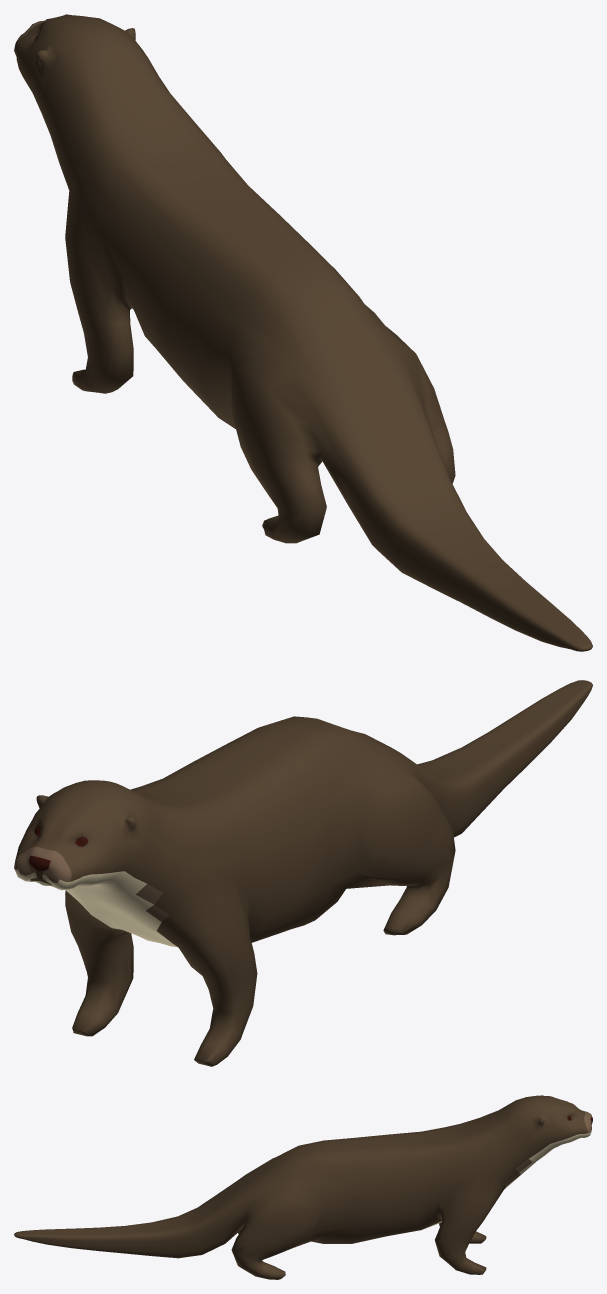
The model's file is Otter.fbx.
The picture shows the model from 3 angles, top to bottom: view 1: azimuth 30°, elevation 25°; view 2: azimuth 150°, elevation 25°; view 3: azimuth 270°, elevation 25°; orthographic projection. The views are drawn at different scales.
Parts seen in each view (by area): view 1: Cube.004; view 2: Cube.004; view 3: Cube.004.
Part boxes in pixels (left/top/right/bottom): Cube.004: left=14, top=14, right=592, bottom=651; Cube.004: left=14, top=680, right=592, bottom=1066; Cube.004: left=14, top=1095, right=592, bottom=1279.
Size of the model in its own units: 153 by 269 by 864.
